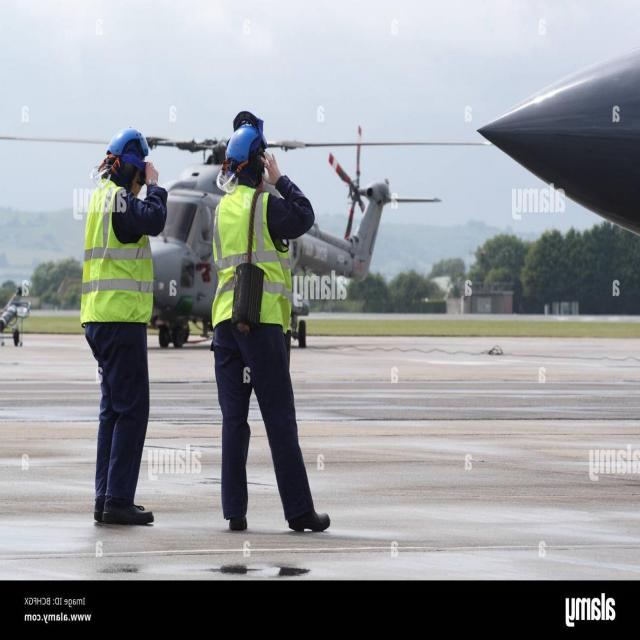Reflective-Jacket: (204, 180, 302, 336), (78, 179, 159, 330)
Safety-Helmet: (219, 122, 271, 171), (104, 122, 154, 166)
